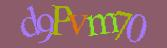0: (126, 14, 146, 42)
7: (113, 11, 132, 39)
9: (36, 14, 54, 42)
P: (49, 5, 72, 34)
d: (20, 5, 42, 37)
m: (85, 12, 120, 35)
v: (67, 14, 88, 34)
